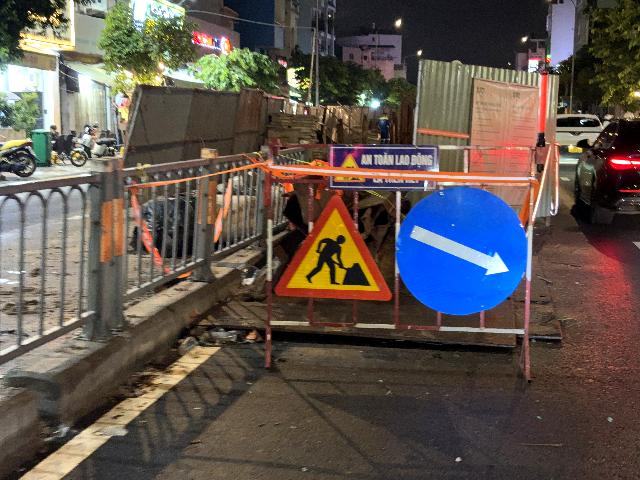cong-truong-dang-thi-cong: (275, 193, 392, 301)
huong-phai-di-vong-chuong-ngai-vat: (395, 187, 528, 315)
